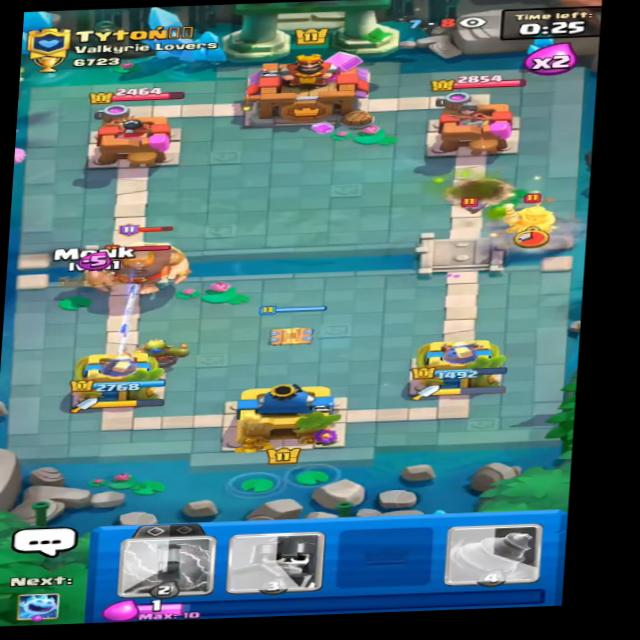Bat: (450, 194, 487, 219)
Evowizard: (112, 225, 188, 260)
Giant: (78, 239, 190, 294)
Prince: (496, 190, 566, 250)
